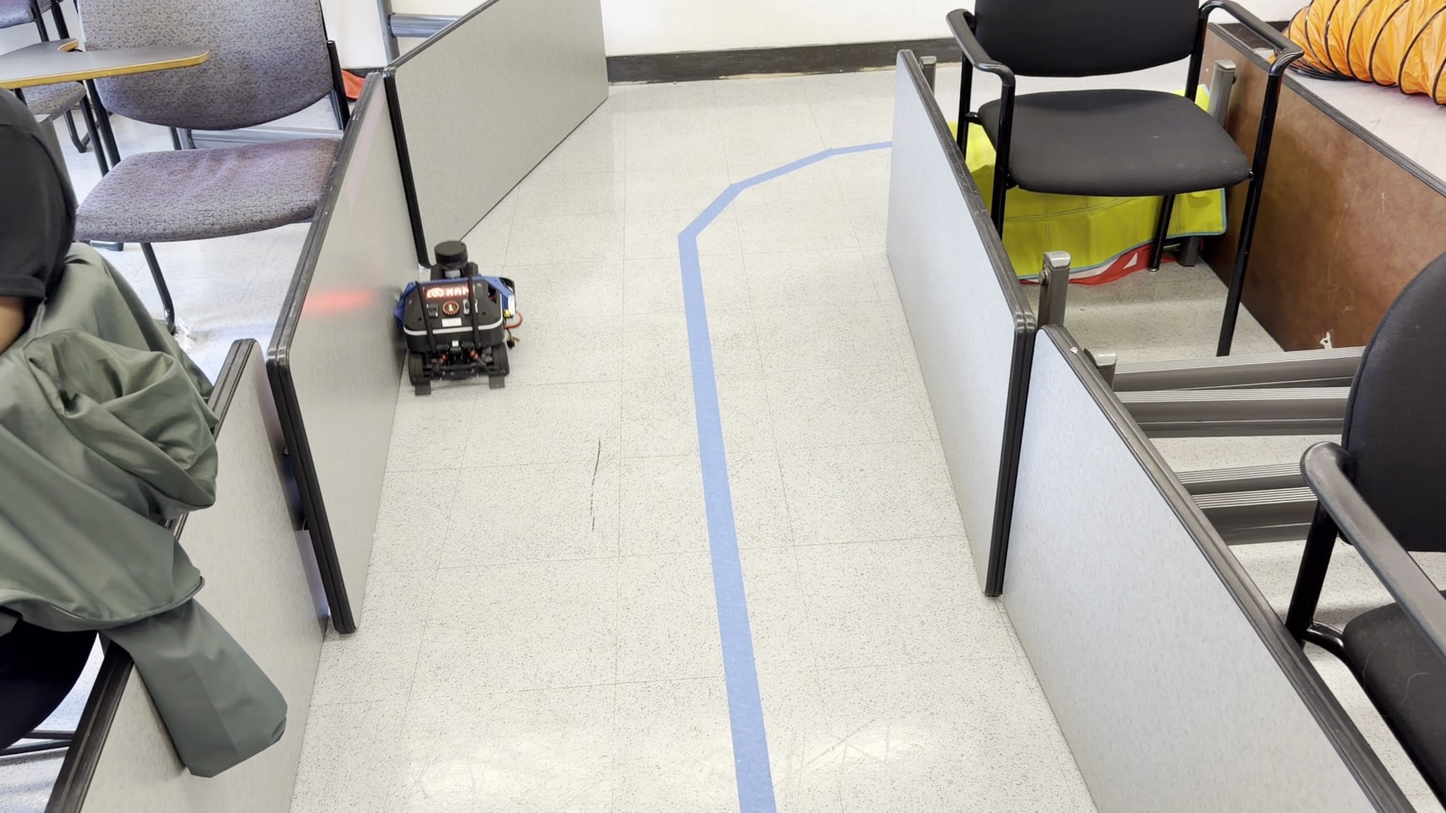racecar: (396, 236, 519, 388)
